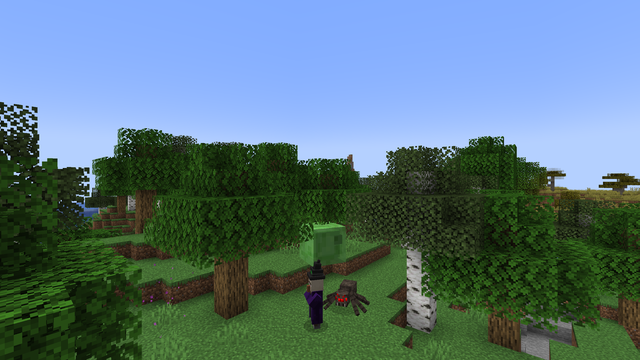araignees: (329, 277, 366, 317)
slimes: (296, 221, 346, 267)
sorcieres: (304, 271, 325, 331)
